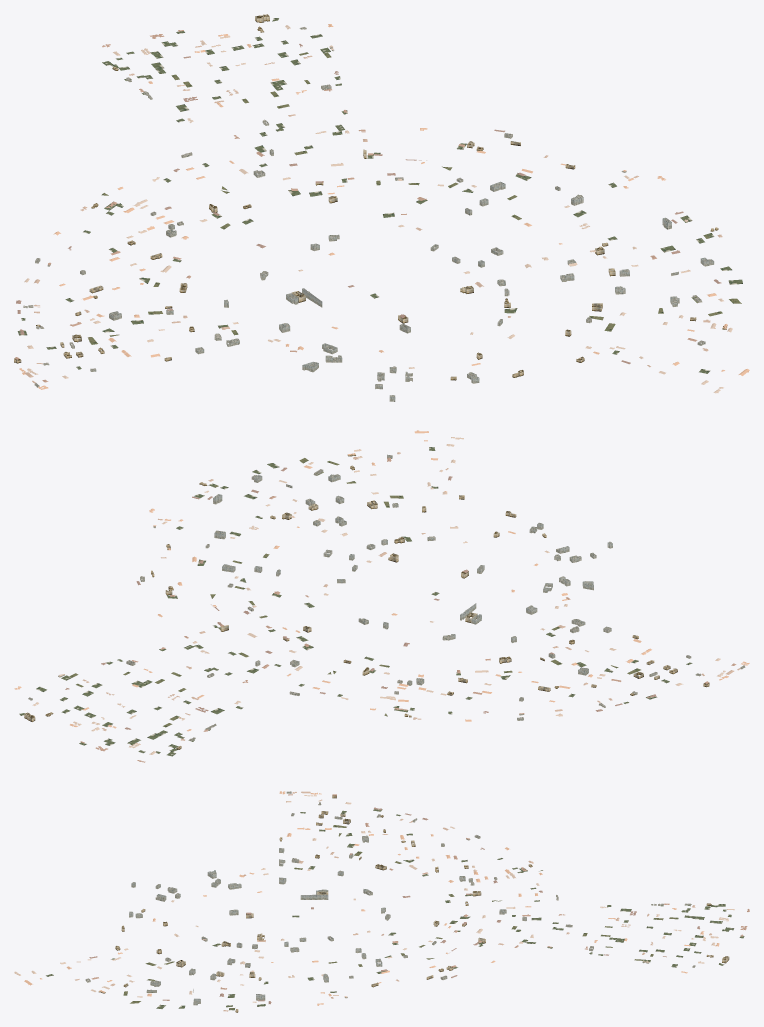
File: city_3d_model_15.glb
The picture shows the model from 3 angles, top to bottom: view 1: azimuth 30°, elevation 25°; view 2: azimuth 150°, elevation 25°; view 3: azimuth 270°, elevation 25°; orthographic projection. The views are drawn at different scales.
Parts seen in each view (by area): view 1: Object_216, Object_210, Object_204, Object_214, Object_200, Object_212; view 2: Object_216, Object_210, Object_204, Object_214, Object_200, Object_212; view 3: Object_216, Object_210, Object_204, Object_214, Object_200, Object_212, Object_202.
Part boxes in pixels (bbox=[...]): Object_216: bbox=[23, 27, 714, 401]; Object_210: bbox=[17, 18, 742, 373]; Object_204: bbox=[14, 14, 727, 380]; Object_214: bbox=[88, 52, 741, 344]; Object_200: bbox=[24, 25, 732, 393]; Object_212: bbox=[38, 24, 749, 389]; Object_216: bbox=[28, 454, 745, 741]; Object_210: bbox=[19, 447, 692, 756]; Object_204: bbox=[24, 454, 709, 749]; Object_214: bbox=[69, 458, 640, 727]; Object_200: bbox=[32, 437, 722, 748]; Object_212: bbox=[14, 430, 749, 728]; Object_216: bbox=[85, 791, 695, 1005]; Object_210: bbox=[46, 809, 744, 1010]; Object_204: bbox=[98, 795, 729, 1012]; Object_214: bbox=[123, 825, 678, 1008]; Object_200: bbox=[14, 795, 728, 997]; Object_212: bbox=[24, 791, 704, 997]; Object_202: bbox=[31, 795, 734, 1002].
Size of the model in its own units: 753 by 42.44 by 977.
Materials: 11 (11 with a texture image).
